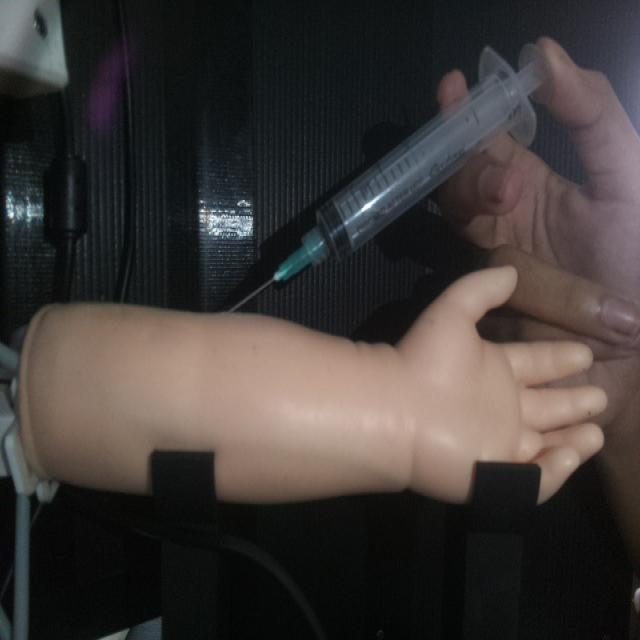Above 30 degrees: (221, 36, 555, 320)
